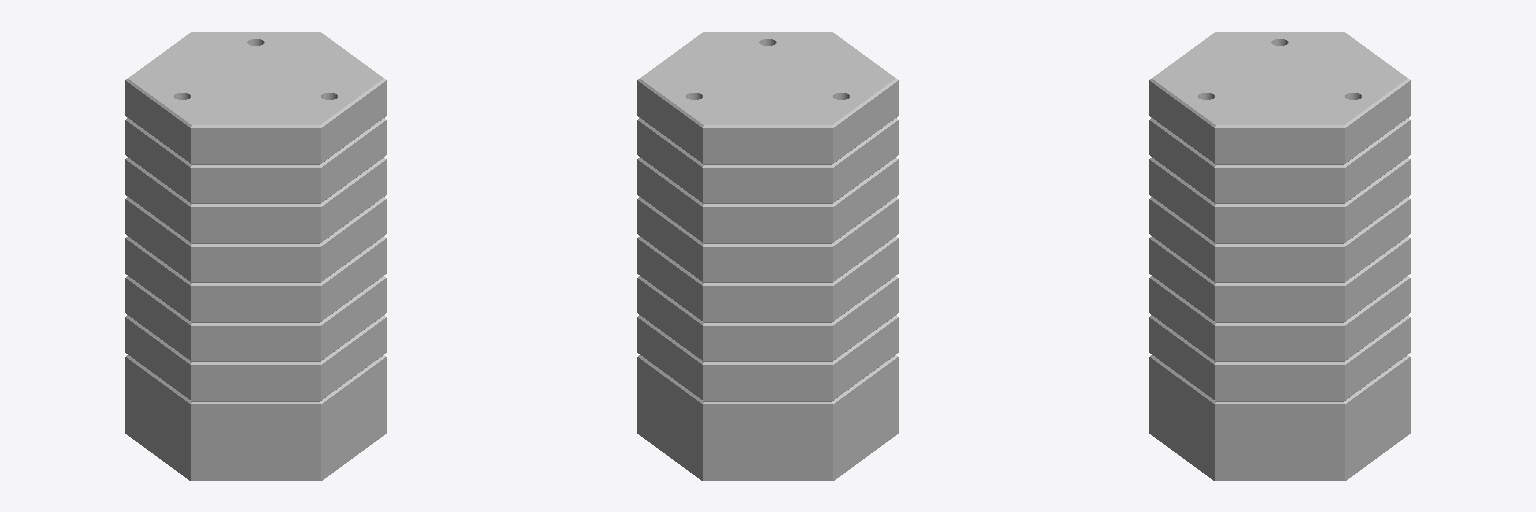
The model's file is lvl8B.obj.
The picture shows the model from 3 angles: view 1: azimuth 30°, elevation 25°; view 2: azimuth 150°, elevation 25°; view 3: azimuth 270°, elevation 25°; orthographic projection.
Visible parts, largest first — view 1: Lvl8B-3_(Mono-NoMags); view 2: Lvl8B-3_(Mono-NoMags); view 3: Lvl8B-3_(Mono-NoMags).
Boxes of the visible parts, <box> form: Lvl8B-3_(Mono-NoMags): <box>125,32,386,480</box>; Lvl8B-3_(Mono-NoMags): <box>637,32,898,480</box>; Lvl8B-3_(Mono-NoMags): <box>1149,32,1410,480</box>.
Bounding box in the file's own units: 3.13 × 5.43 × 3.62.